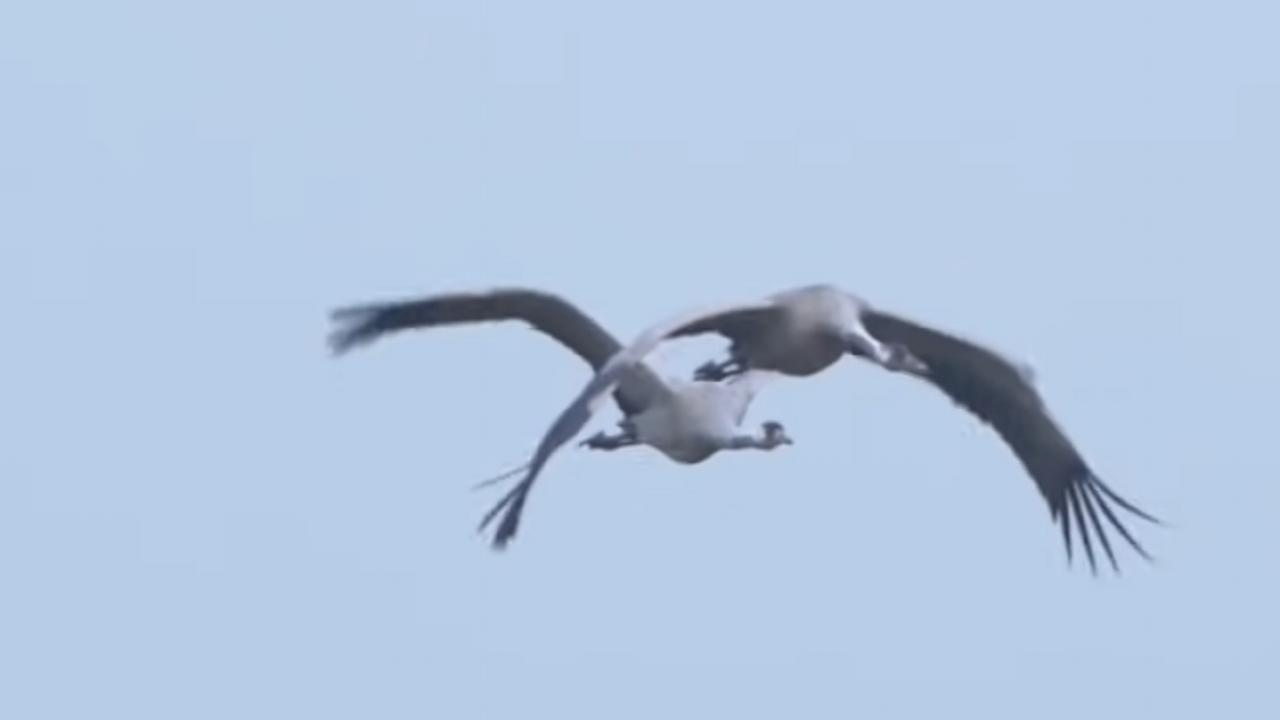Bird: (476, 266, 1174, 586), (318, 278, 811, 469)
